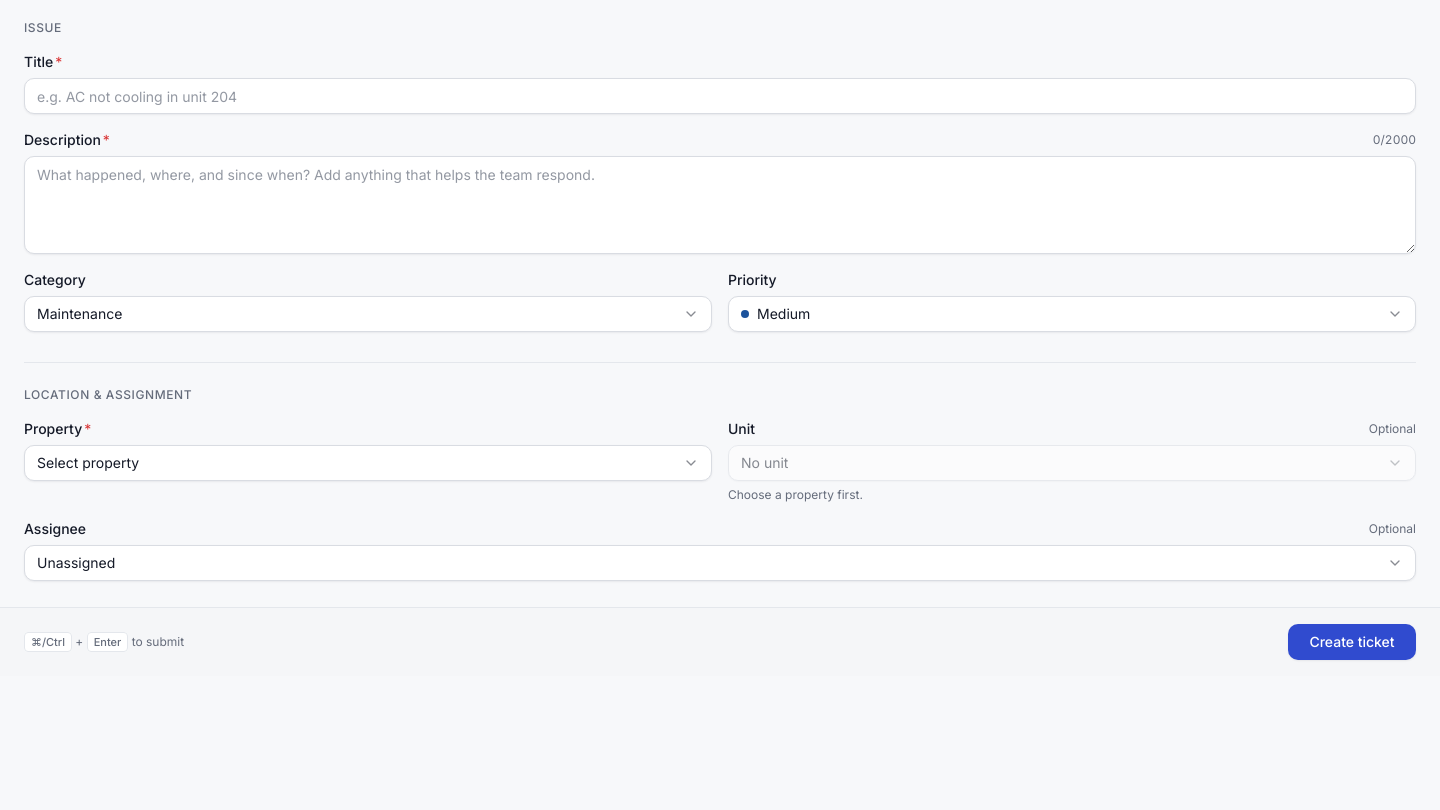
Ticket form validation › rejects titles that are too short after trim
The image size is (1440, 810).
Type "ab" into the field labelled "Title".
click(720, 96); type("ab")  # box x1=24 y1=78 x2=1416 y2=114
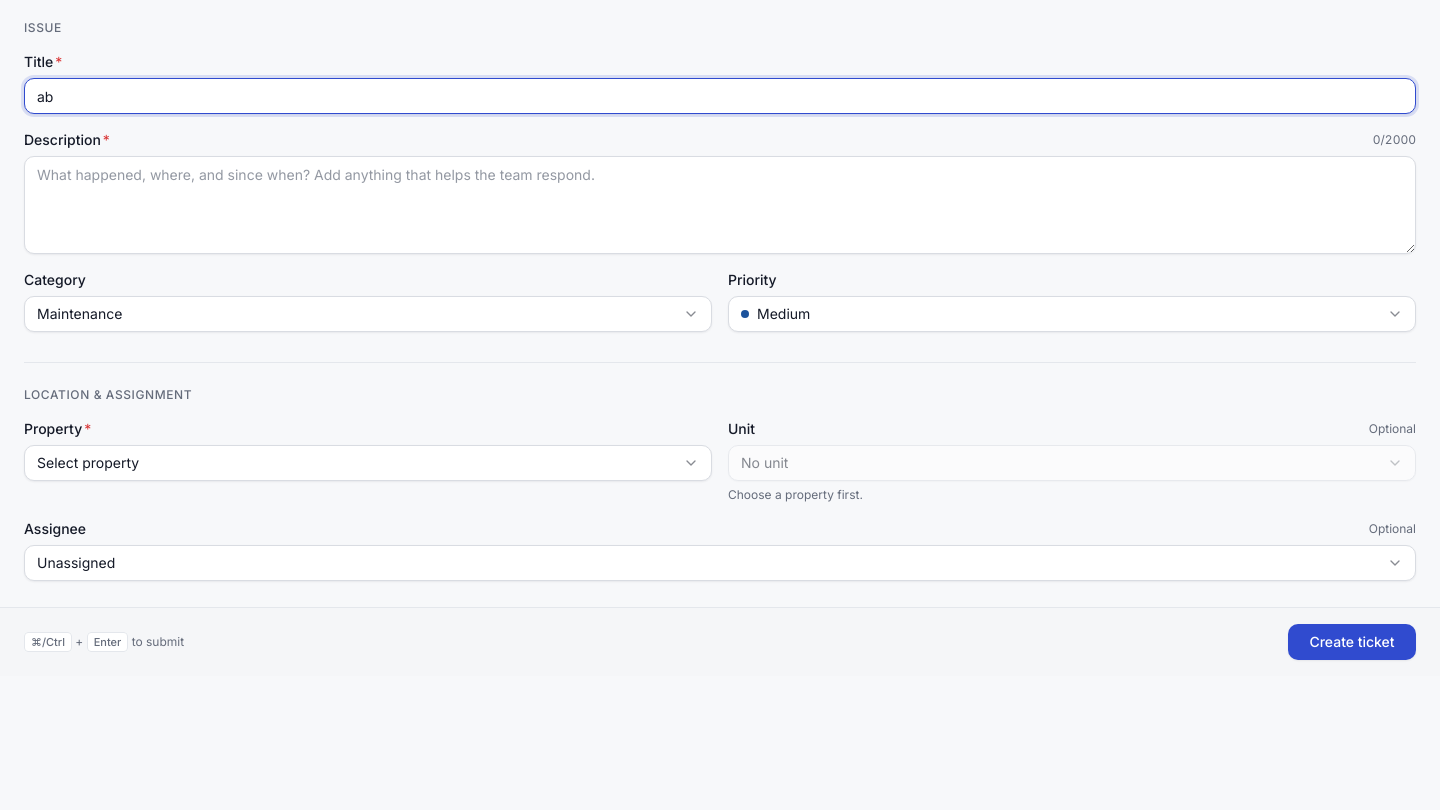
Type "Short" into the text box labelled "Description".
click(720, 205); type("Short")  # box x1=24 y1=156 x2=1416 y2=254
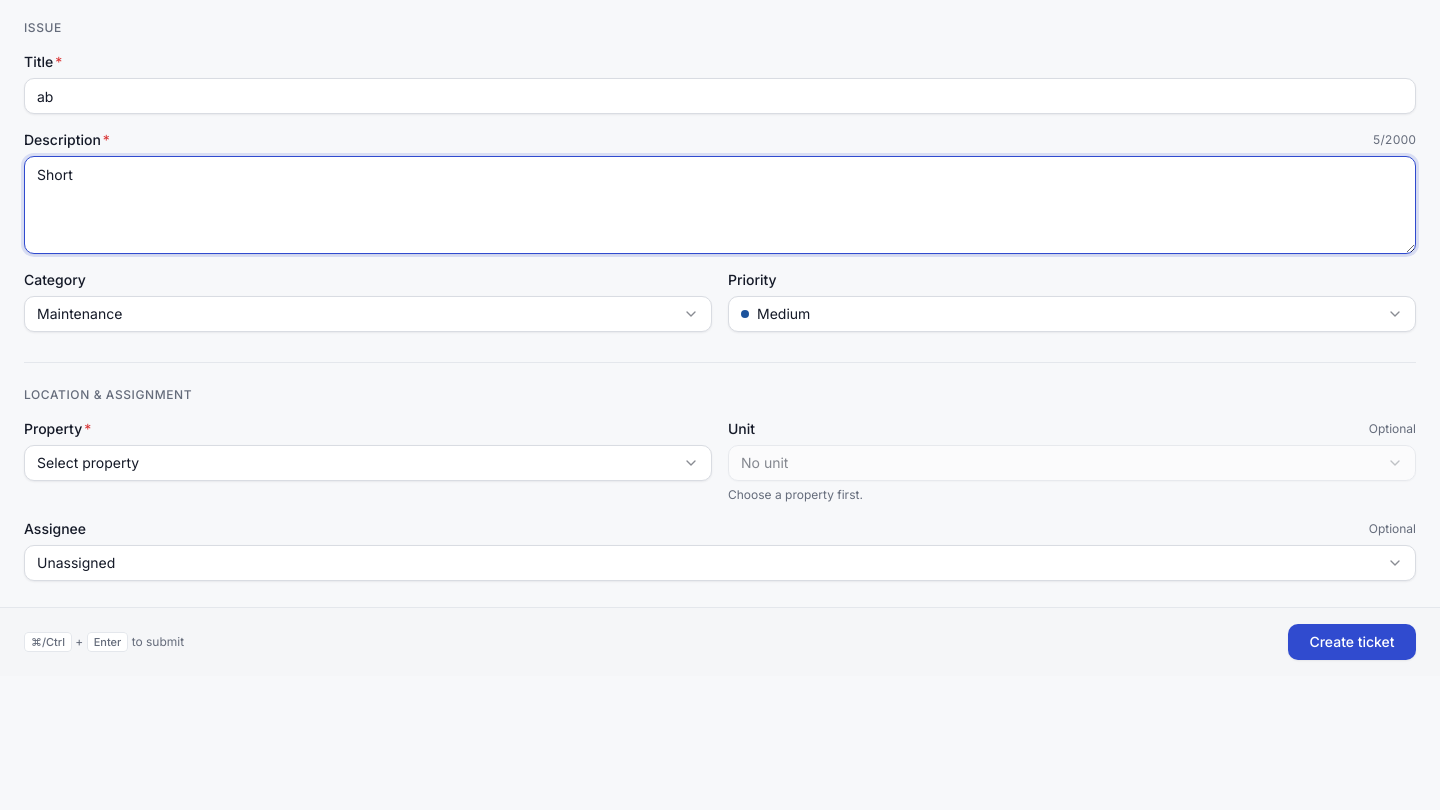
Click the button "Create ticket".
click(1352, 642)  # box x1=1288 y1=624 x2=1416 y2=660
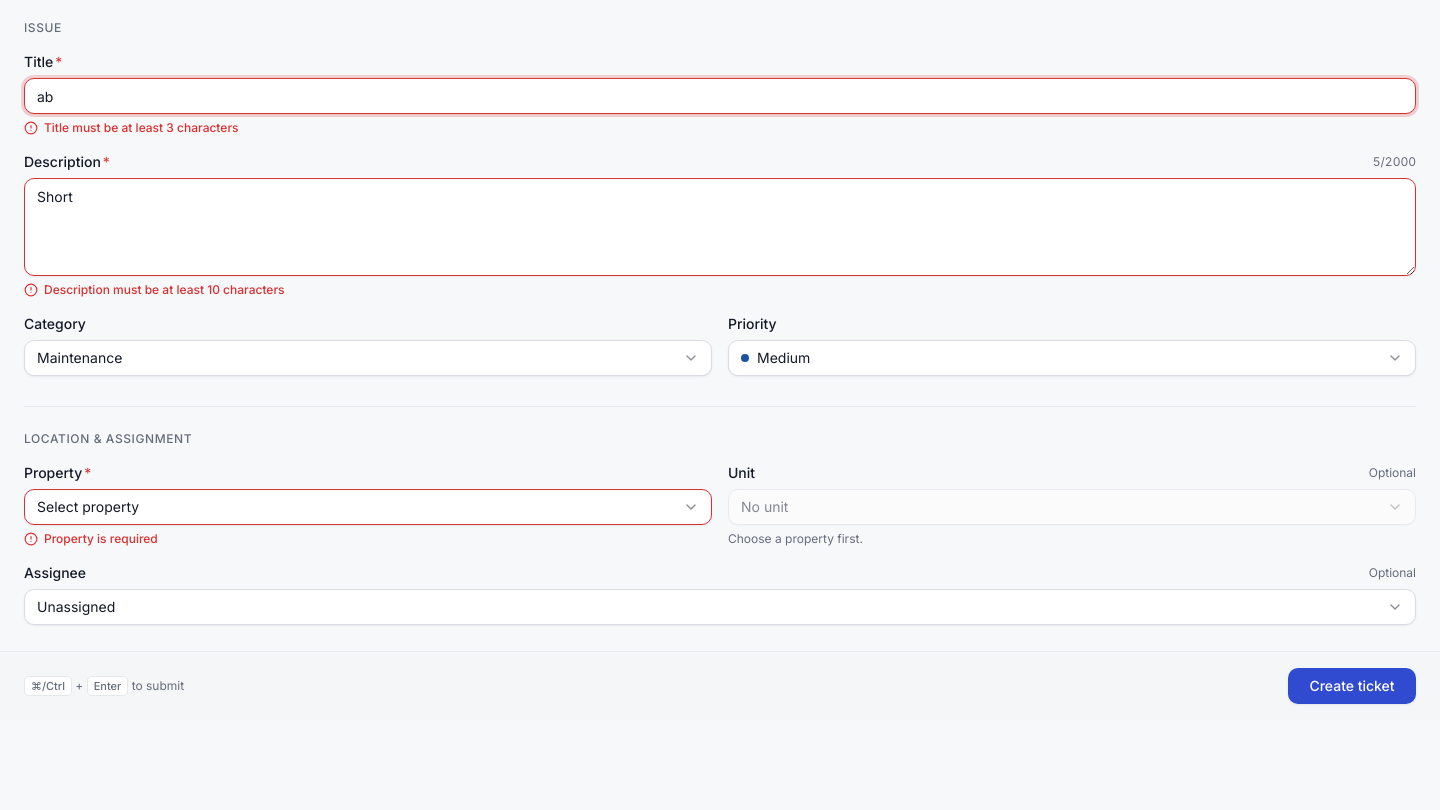
Check: the text "Title must be at least 3 characters" is shown, box x1=24 y1=120 x2=238 y2=135
Check: the text "Description must be at least 10 characters" is shown, box x1=24 y1=282 x2=284 y2=297
